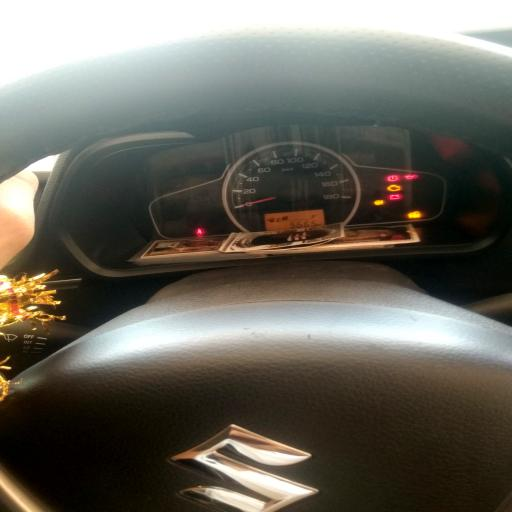belt: (196, 228, 203, 236)
brake_system_fault: (386, 174, 400, 182)
car_closed: (408, 210, 420, 220)
check_engine: (386, 184, 402, 192), (390, 194, 401, 200)
oil: (404, 174, 417, 180)
